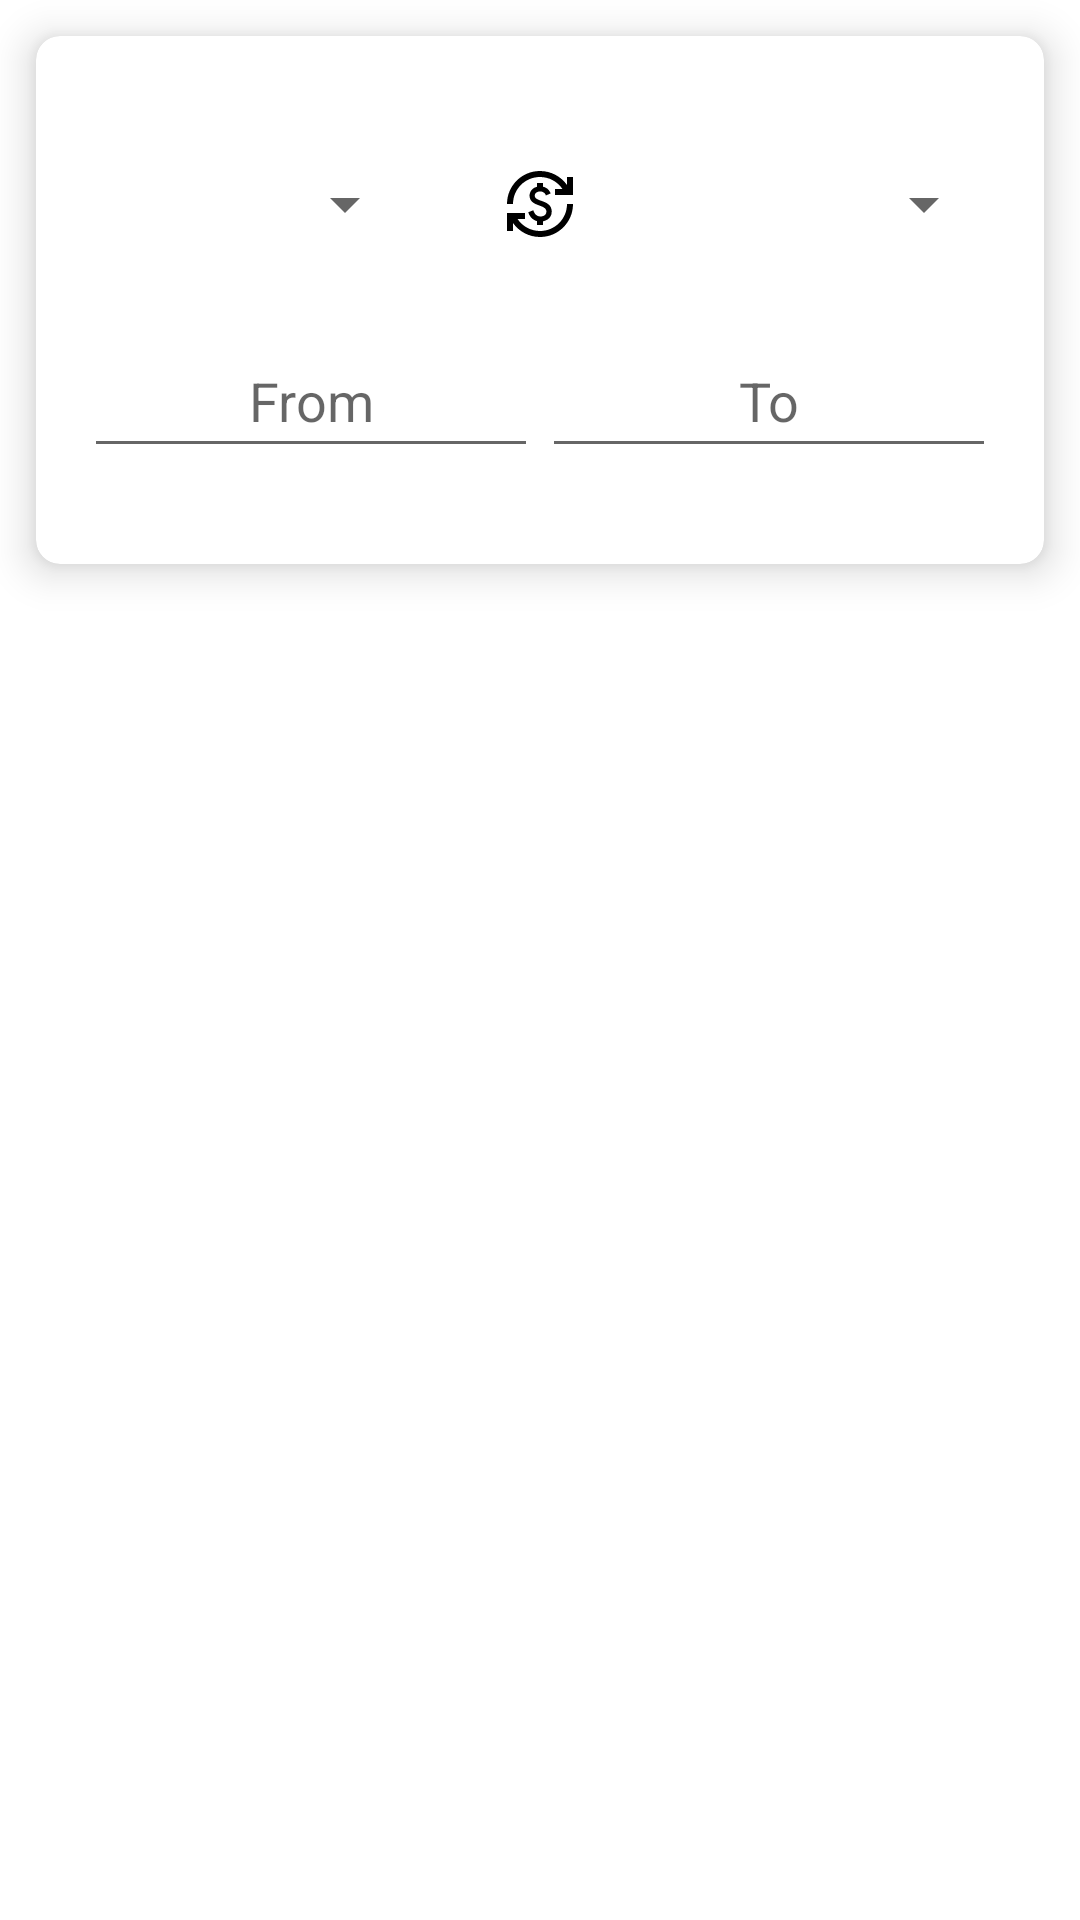

Where to tap for icons on this 1080 × 1920 app screen, as (x,y):
currency exchange: (540,204)
